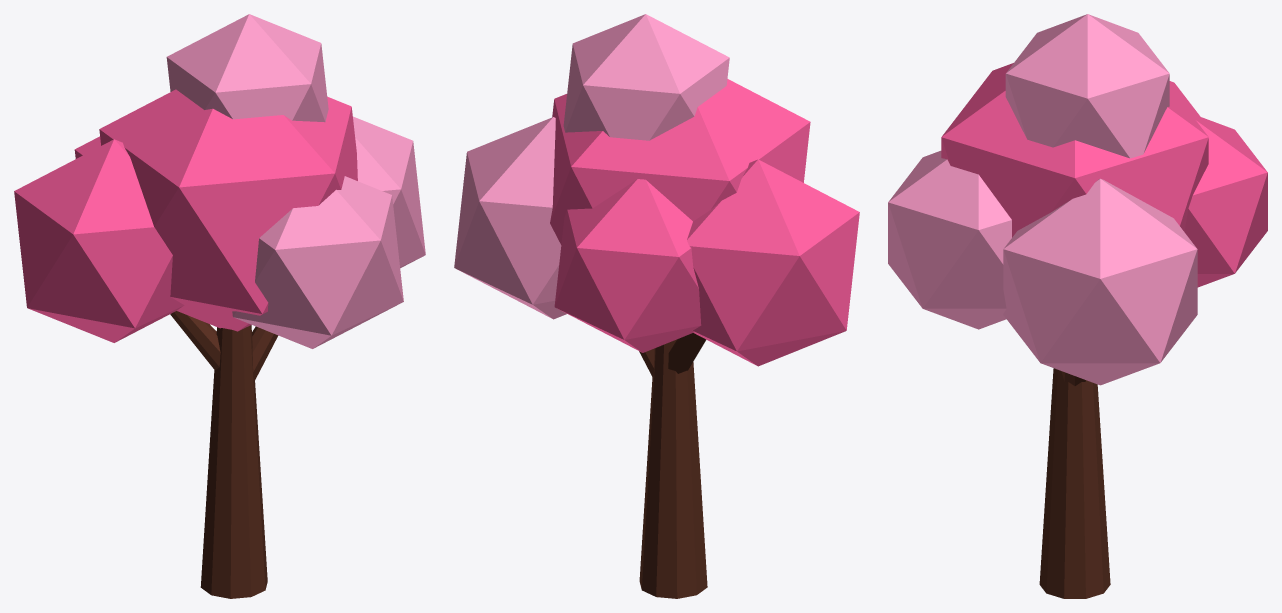
Rendered from tree.glb.
3 views of the same model, side by side, from view 1: azimuth 30°, elevation 25°; view 2: azimuth 150°, elevation 25°; view 3: azimuth 270°, elevation 25° (orthographic). The views are drawn at different scales.
Visible parts, largest first — view 1: TreeCanopy, TreeTrunk; view 2: TreeCanopy, TreeTrunk; view 3: TreeCanopy, TreeTrunk.
Boxes of the visible parts, box(x1,y1,x2,y2) form: TreeCanopy: box(14, 14, 425, 348); TreeTrunk: box(170, 311, 278, 598); TreeCanopy: box(454, 14, 859, 366); TreeTrunk: box(639, 333, 707, 598); TreeCanopy: box(888, 14, 1267, 385); TreeTrunk: box(1039, 368, 1110, 598).
Bounding box in the file's own units: 1.79 × 2.53 × 1.5.
